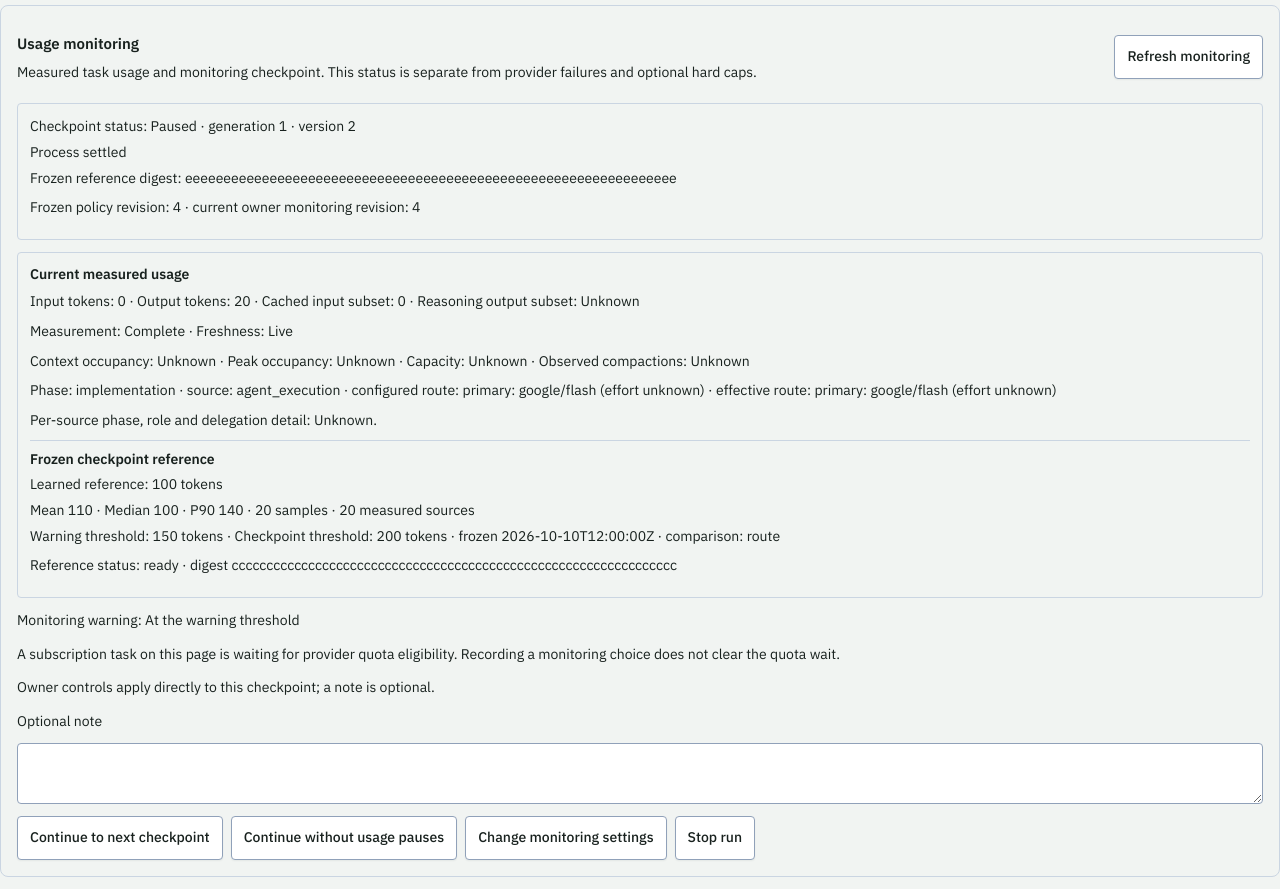
Test: submits a direct continue action with one idempotency key
This screenshot has width=1280, height=889.
Click the button "Continue to next checkpoint". click: (120, 838)
box: [17,816,223,860]
(page scrolled)
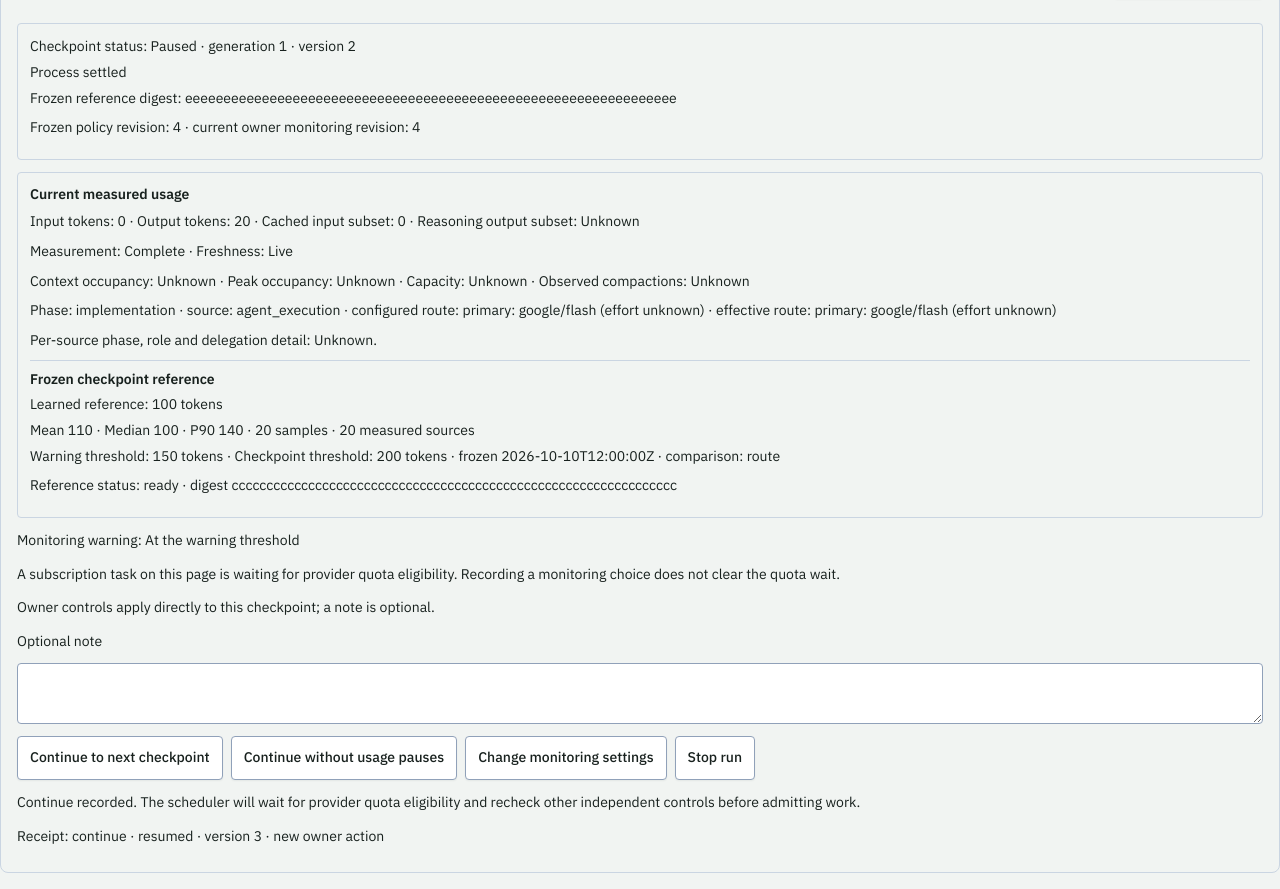
Result: the text "Continue recorded. The scheduler will wait for provider quota eligibility" is shown at [17,793,860,811]
